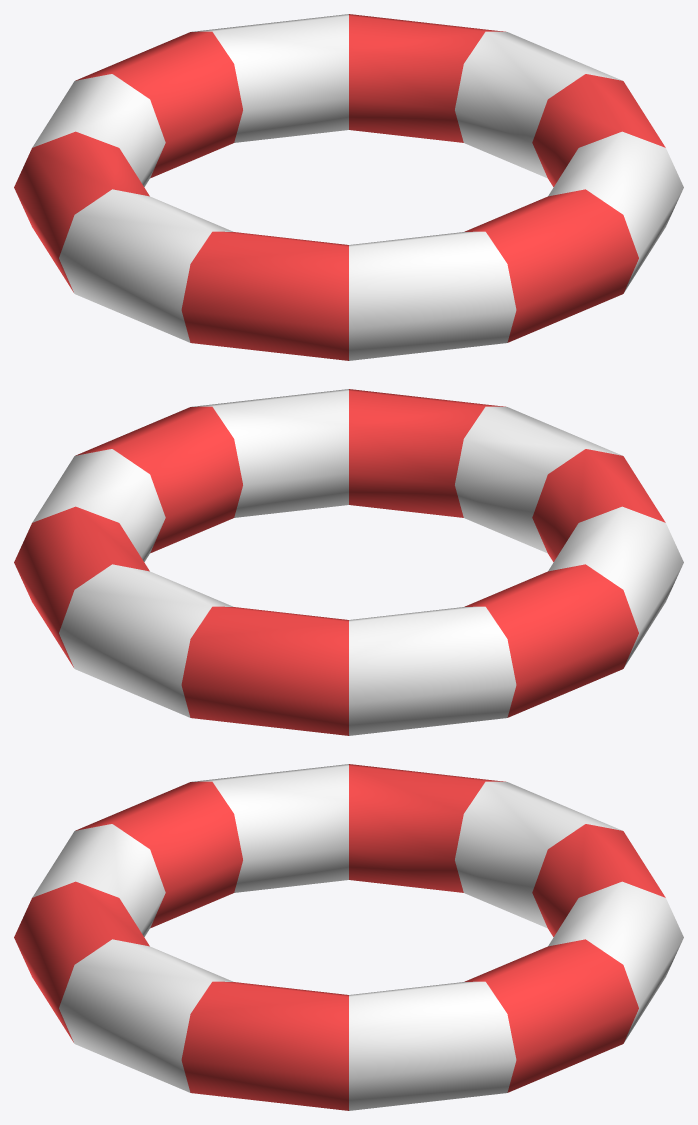
Rendered from Lifebuoy.obj.
The picture shows the model from 3 angles, top to bottom: view 1: azimuth 30°, elevation 25°; view 2: azimuth 150°, elevation 25°; view 3: azimuth 270°, elevation 25°; orthographic projection.
Visible parts, largest first — view 1: Lifebuoy; view 2: Lifebuoy; view 3: Lifebuoy.
Part boxes in pixels (x1,y1,x2,y2): Lifebuoy: (14, 14, 683, 360); Lifebuoy: (14, 389, 683, 735); Lifebuoy: (14, 764, 683, 1110).
Size of the model in its own units: 0.962 by 0.1772 by 0.962.
